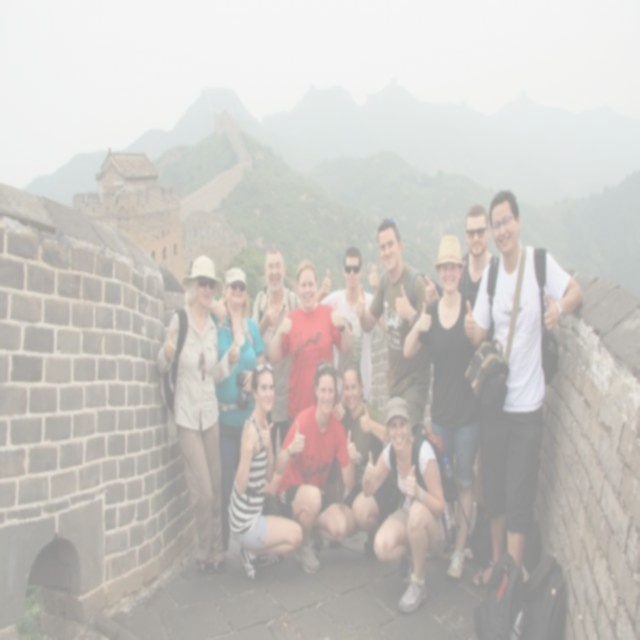pessoa: (462, 187, 586, 607), (403, 233, 483, 582), (156, 253, 240, 572), (361, 396, 453, 614), (273, 358, 359, 576), (227, 360, 306, 586), (353, 215, 433, 430), (212, 264, 266, 554), (267, 257, 353, 430), (250, 246, 302, 468), (333, 360, 390, 538), (422, 202, 502, 316), (320, 244, 376, 404)
